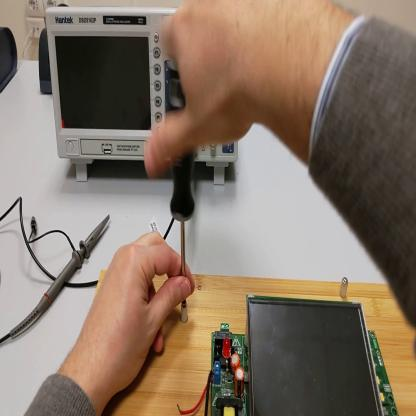hand: (144, 2, 274, 176), (85, 231, 195, 395)
low voltage board: (178, 296, 398, 412)
oscilloscope: (47, 6, 240, 188)
oscilloscope probe tip: (11, 215, 109, 342)
screwdriver-: (168, 62, 194, 322)
socket: (1, 28, 19, 96), (40, 26, 52, 96)
working area: (96, 269, 416, 416)
